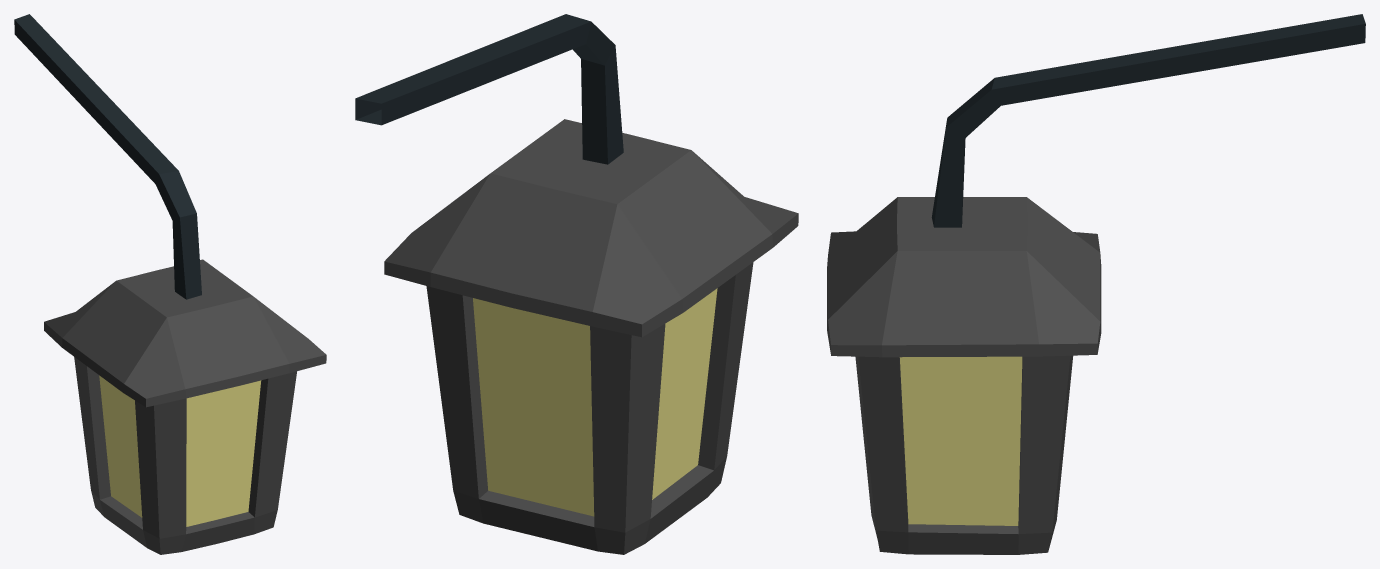
File: Lump_3.fbx
3 renders of one model, left to right at view 1: azimuth 30°, elevation 25°; view 2: azimuth 150°, elevation 25°; view 3: azimuth 270°, elevation 25°, orthographic. The views are drawn at different scales.
Visible parts, largest first — view 1: Lump_3; view 2: Lump_3; view 3: Lump_3.
Boxes of the visible parts, x1,y1,x2,y2 form: Lump_3: (14, 14, 326, 554); Lump_3: (355, 14, 798, 554); Lump_3: (827, 14, 1365, 554).
Size of the model in its own units: 15.75 by 30.95 by 31.76.
